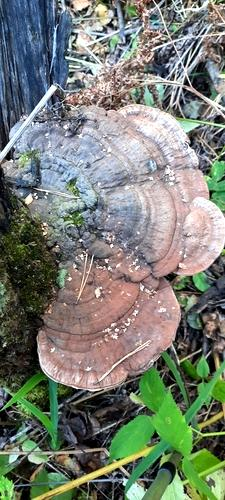Ganoderma - Fruit Body: (5, 101, 224, 397)
